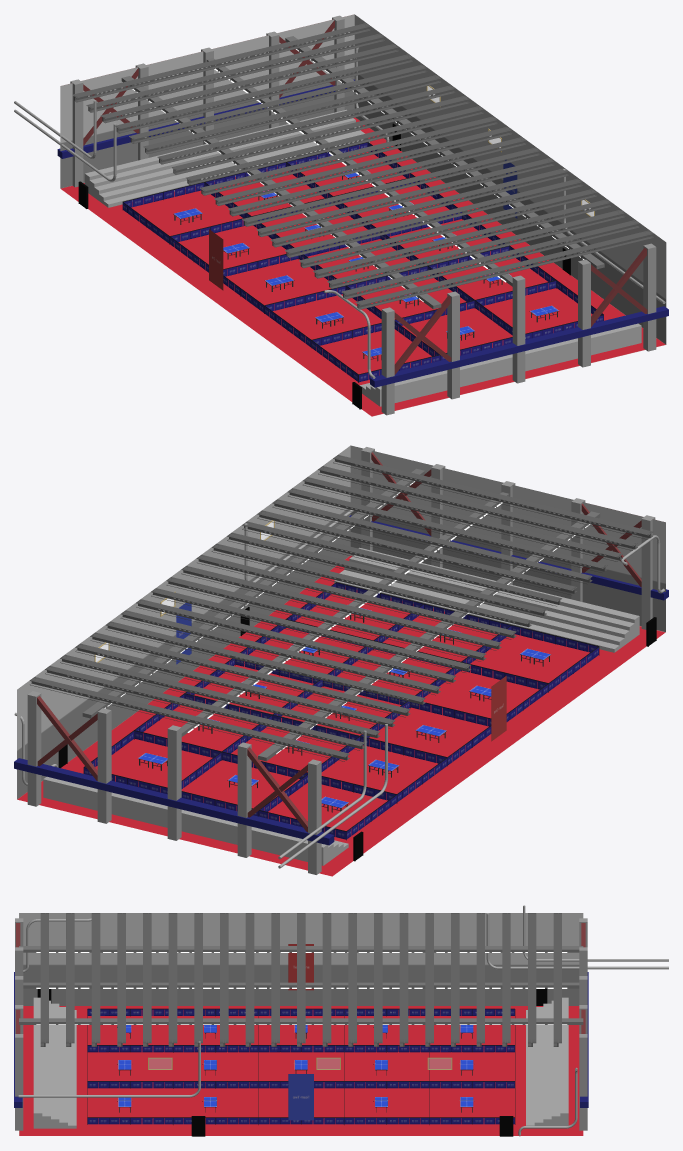
The model's file is PGP_HALL.glb.
The picture shows the model from 3 angles, top to bottom: view 1: azimuth 30°, elevation 25°; view 2: azimuth 150°, elevation 25°; view 3: azimuth 270°, elevation 25°; orthographic projection. The views are drawn at different scales.
Parts seen in each view (by area): view 1: Table.001; view 2: Table.001; view 3: Table.001.
Boxes of the visible parts, x1=… form: Table.001: x1=14, y1=14, x2=668, y2=416; Table.001: x1=14, y1=445, x2=668, y2=876; Table.001: x1=14, y1=905, x2=668, y2=1136.
Bounding box in the file's own units: 37.33 × 13.1 × 76.6.
Materials: 16 (7 with a texture image).
